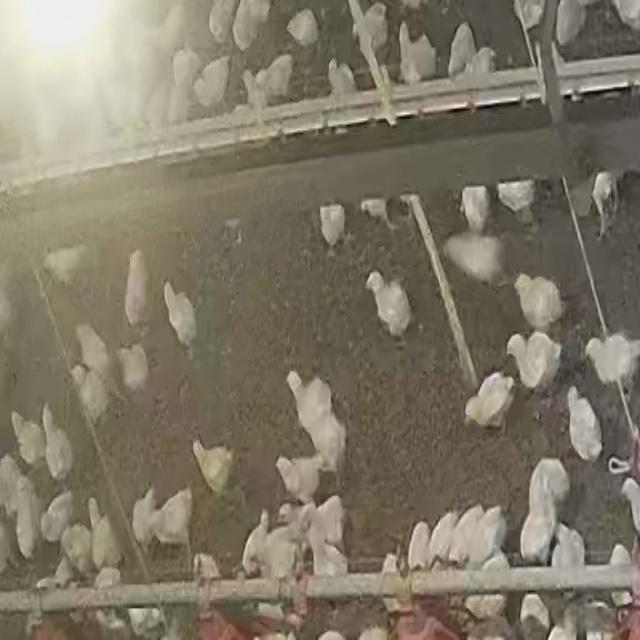chicken: (364, 268, 414, 342), (508, 330, 563, 392), (470, 550, 514, 627), (584, 332, 640, 390), (463, 372, 517, 431), (525, 458, 571, 524), (77, 322, 119, 394), (89, 494, 125, 571), (259, 518, 303, 581), (41, 402, 75, 482), (516, 271, 562, 330), (274, 454, 326, 506), (566, 387, 602, 462), (191, 438, 235, 497), (12, 473, 42, 558), (606, 541, 636, 624), (162, 280, 196, 353), (66, 365, 107, 424), (156, 486, 195, 548), (285, 376, 331, 428), (170, 46, 204, 115), (448, 237, 498, 283), (131, 486, 164, 554), (191, 54, 231, 110), (11, 407, 47, 469), (519, 506, 557, 563), (240, 510, 272, 577), (40, 487, 77, 544), (471, 506, 507, 563), (307, 530, 347, 581), (312, 417, 346, 476), (122, 253, 151, 322), (352, 2, 389, 56), (231, 0, 270, 50), (90, 570, 124, 627), (43, 240, 89, 282), (242, 68, 274, 128), (0, 453, 29, 517), (590, 170, 618, 236), (400, 30, 435, 82), (59, 521, 94, 573), (308, 499, 349, 543), (258, 53, 295, 100), (550, 524, 587, 570), (450, 506, 478, 566), (160, 2, 194, 50), (285, 6, 320, 48), (143, 82, 173, 130), (496, 181, 539, 214), (459, 185, 489, 232), (208, 0, 238, 45), (519, 592, 551, 634), (378, 551, 401, 609), (326, 57, 356, 101), (554, 4, 586, 45), (360, 197, 396, 233), (0, 510, 20, 574), (448, 22, 473, 73), (406, 520, 432, 569), (126, 605, 163, 639), (430, 514, 454, 566), (318, 204, 346, 248), (619, 477, 640, 535), (121, 346, 148, 390), (511, 0, 550, 27), (464, 51, 497, 80), (612, 0, 640, 32), (609, 543, 632, 568)
